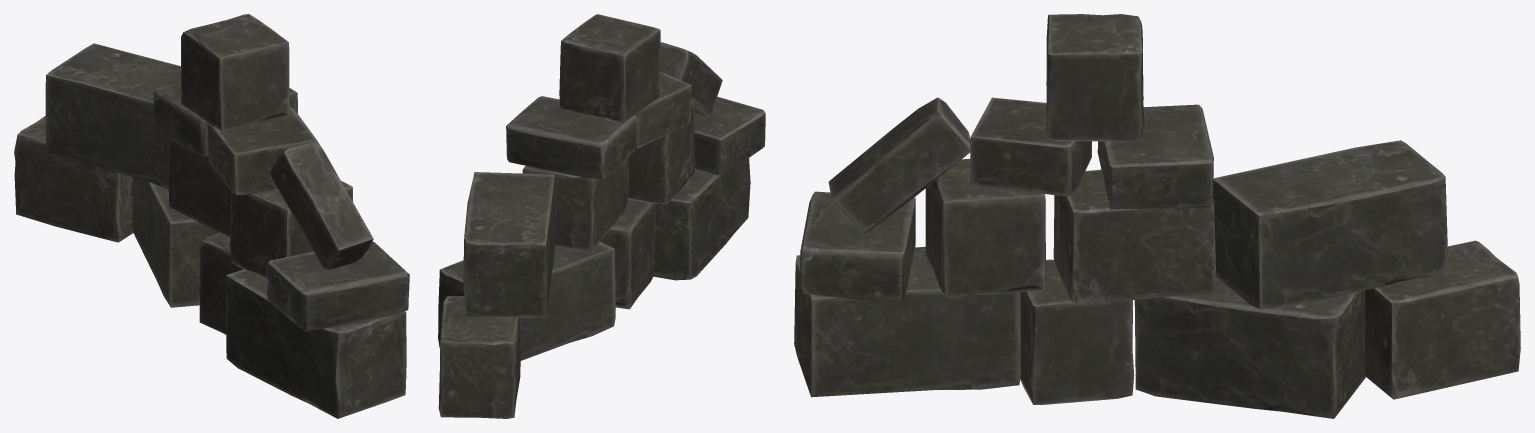
The picture shows the model from 3 angles, left to right: view 1: azimuth 30°, elevation 25°; view 2: azimuth 150°, elevation 25°; view 3: azimuth 270°, elevation 25°; orthographic projection. The views are drawn at different scales.
Parts seen in each view (by area): view 1: SM_Greathall_Wall_8x4_Broken_Top_03_LOD0; view 2: SM_Greathall_Wall_8x4_Broken_Top_03_LOD0; view 3: SM_Greathall_Wall_8x4_Broken_Top_03_LOD0.
Boxes of the visible parts, x1=… form: SM_Greathall_Wall_8x4_Broken_Top_03_LOD0: x1=14, y1=14, x2=409, y2=418; SM_Greathall_Wall_8x4_Broken_Top_03_LOD0: x1=438, y1=14, x2=765, y2=418; SM_Greathall_Wall_8x4_Broken_Top_03_LOD0: x1=794, y1=14, x2=1520, y2=418.
Size of the model in its own units: 2.14 by 4.05 by 7.8.
Materials: 1 (1 with a texture image).
